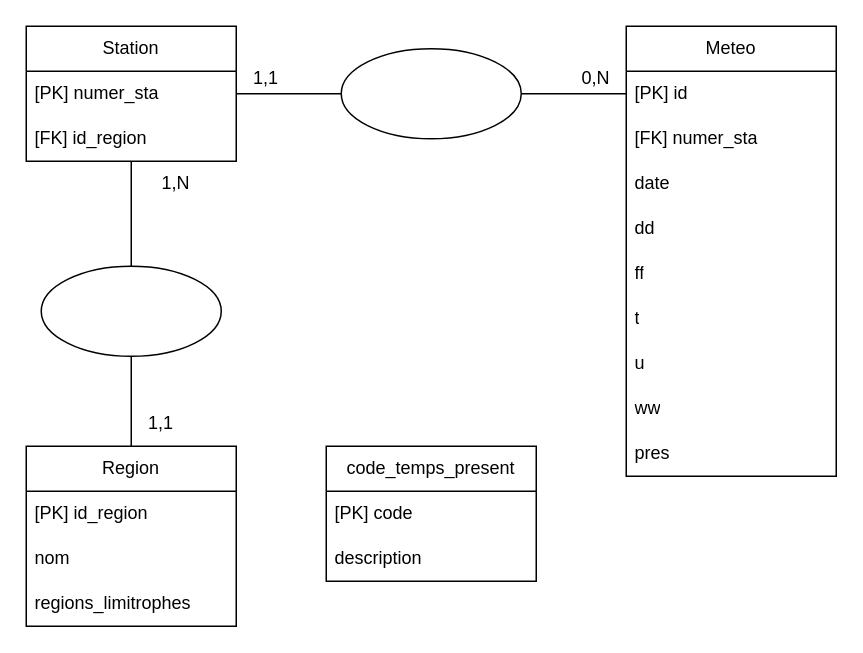
Some shapes in this 863 by 653 pixel diagram are drawn without their labels. Each missing label, with the centre of its shape:
obtiens données: point 430,93
situé dans: point 130,310
